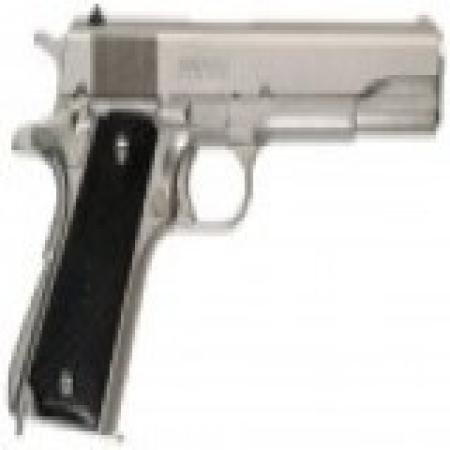Pistol: (12, 7, 445, 432)
